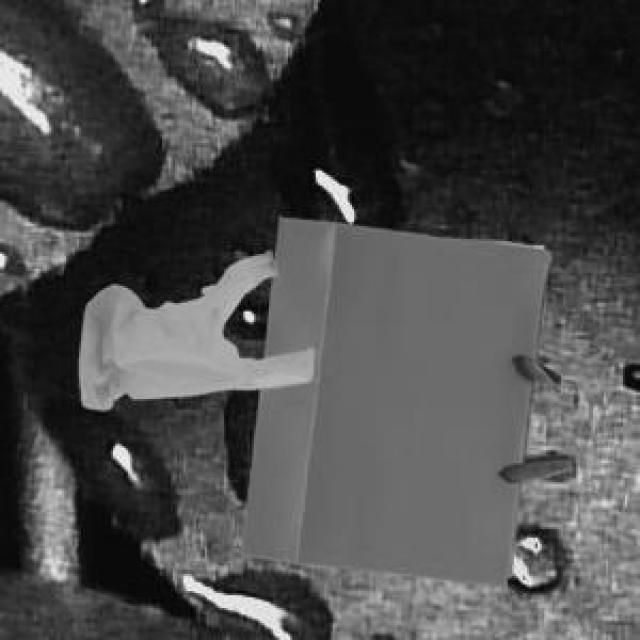paper: (237, 213, 568, 582)
